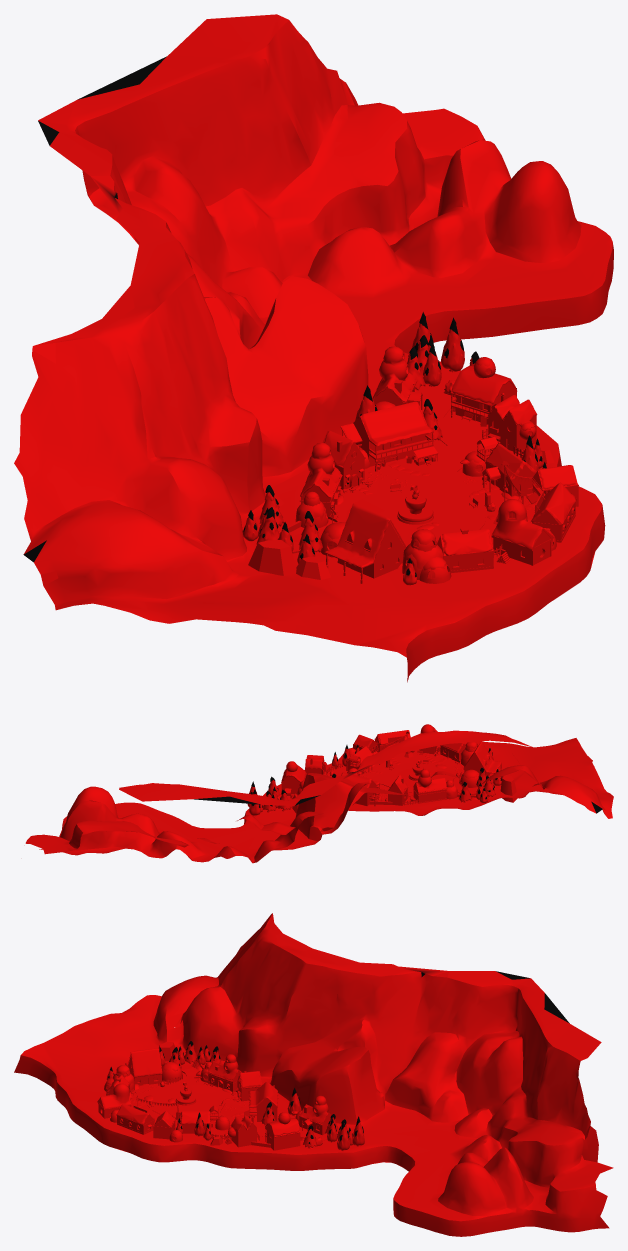
File: Individual_IceBreakerAlley_01.glb
The picture shows the model from 3 angles, top to bottom: view 1: azimuth 30°, elevation 25°; view 2: azimuth 150°, elevation 25°; view 3: azimuth 270°, elevation 25°; orthographic projection. The views are drawn at different scales.
Parts seen in each view (by area): view 1: pasted__pasted__Berg, pasted__Object_Road, pasted__Building_Platform2Story, pasted__Building_TallRoof, pasted__Building_House_1IglooStack, pasted__Building_House_FlatRoofIgloo, pasted__Building_2Roofs, pasted__Building_Platformed1Story, pasted__Building_1StoryHouse, pasted__Building_House_2IglooStack, pasted__Building_House_2IglooStack1, pasted__Building_3WayIgloo (+4 smaller); view 2: pasted__pasted__Berg, pasted__Object_Road, pasted__Building_House_2IglooStack1, pasted__Building_TallRoof, pasted__Building_House_FlatRoofIgloo, pasted__Building_Platform2Story, pasted__Building_CoffeeShop, pasted__Building_House_3Windows, pasted__Building_2Roofs, pasted__Building_1StoryHouse, pasted__Building_Platformed1Story, pasted__Object_IceRock6 (+3 smaller); view 3: pasted__pasted__Berg, pasted__Object_Road, pasted__Building_TallRoof, pasted__Building_House_FlatRoofIgloo, pasted__Building_House_2IglooStack1, pasted__Building_Platform2Story, pasted__Building_House_3Windows, pasted__Building_House_2IglooStack, pasted__Building_House_1IglooStack, pasted__Building_2Roofs, pasted__Building_Platformed1Story, pasted__Building_CoffeeShop (+1 smaller).
Part boxes in pixels (<box>): pasted__pasted__Berg: <box>14,14,613,682</box>; pasted__Object_Road: <box>292,391,485,553</box>; pasted__Building_Platform2Story: <box>340,401,438,471</box>; pasted__Building_TallRoof: <box>324,503,406,583</box>; pasted__Building_House_1IglooStack: <box>491,499,554,565</box>; pasted__Building_House_FlatRoofIgloo: <box>450,357,517,424</box>; pasted__Building_2Roofs: <box>480,393,537,452</box>; pasted__Building_Platformed1Story: <box>476,436,536,496</box>; pasted__Building_1StoryHouse: <box>437,527,493,572</box>; pasted__Building_House_2IglooStack: <box>372,346,422,409</box>; pasted__Building_House_2IglooStack1: <box>299,442,342,518</box>; pasted__Building_3WayIgloo: <box>402,529,451,583</box>; pasted__pasted__Berg: <box>25,730,613,863</box>; pasted__Object_Road: <box>291,762,477,806</box>; pasted__Building_House_2IglooStack1: <box>413,769,447,803</box>; pasted__Building_TallRoof: <box>463,741,501,776</box>; pasted__Building_House_FlatRoofIgloo: <box>281,761,306,798</box>; pasted__Building_Platform2Story: <box>341,772,380,806</box>; pasted__Building_CoffeeShop: <box>388,774,408,805</box>; pasted__Building_House_3Windows: <box>374,730,410,751</box>; pasted__Building_2Roofs: <box>305,755,324,776</box>; pasted__Building_1StoryHouse: <box>440,742,465,762</box>; pasted__Building_Platformed1Story: <box>346,746,373,771</box>; pasted__Object_IceRock6: <box>500,775,517,802</box>; pasted__pasted__Berg: <box>14,913,613,1236</box>; pasted__Object_Road: <box>147,1063,327,1141</box>; pasted__Building_TallRoof: <box>125,1048,162,1085</box>; pasted__Building_House_FlatRoofIgloo: <box>265,1112,304,1150</box>; pasted__Building_House_2IglooStack1: <box>207,1054,241,1092</box>; pasted__Building_Platform2Story: <box>244,1082,278,1121</box>; pasted__Building_House_3Windows: <box>116,1103,154,1134</box>; pasted__Building_House_2IglooStack: <box>299,1095,331,1133</box>; pasted__Building_House_1IglooStack: <box>97,1083,132,1118</box>; pasted__Building_2Roofs: <box>227,1115,256,1147</box>; pasted__Building_Platformed1Story: <box>180,1105,218,1133</box>; pasted__Building_CoffeeShop: <box>236,1071,261,1101</box>.
Bounding box in the file's own units: 107 × 28.33 × 123.
